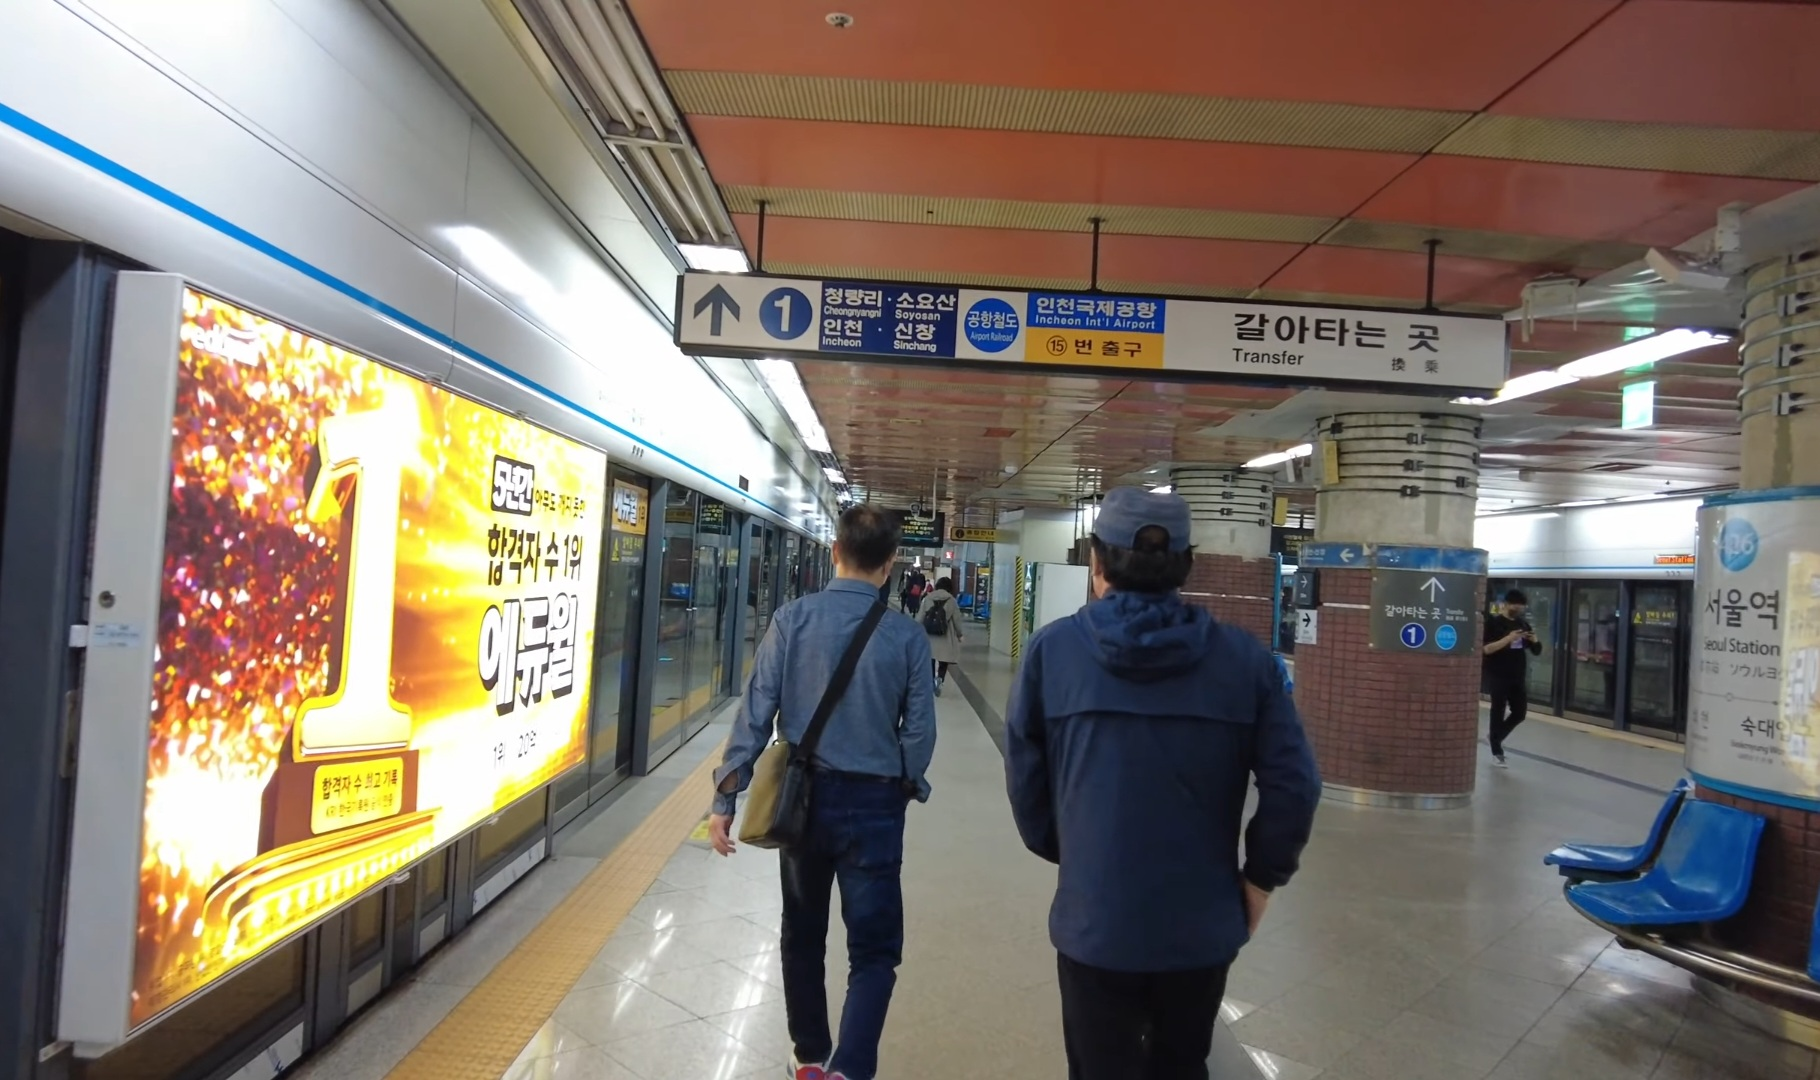signBoard: (666, 266, 1515, 401)
